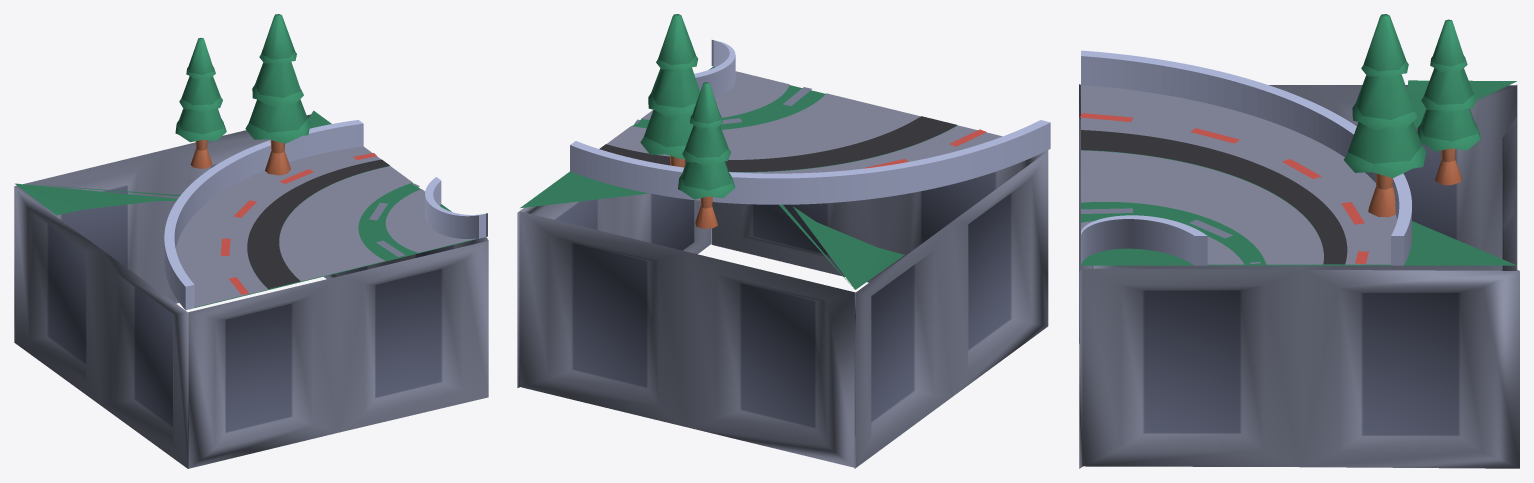
File: elev-wide-to-thin-corner.glb
The picture shows the model from 3 angles, left to right: view 1: azimuth 30°, elevation 25°; view 2: azimuth 150°, elevation 25°; view 3: azimuth 270°, elevation 25°; orthographic projection. The views are drawn at different scales.
Visible parts, largest first — view 1: track-corner.010; view 2: track-corner.010; view 3: track-corner.010.
Boxes of the visible parts, left/top/right/bottom form: track-corner.010: left=14, top=14, right=488, bottom=468; track-corner.010: left=517, top=14, right=1050, bottom=468; track-corner.010: left=1079, top=14, right=1519, bottom=468.
Bounding box in the file's own units: 10.1 × 10.05 × 10.1.
Materials: 4 (4 with a texture image).
